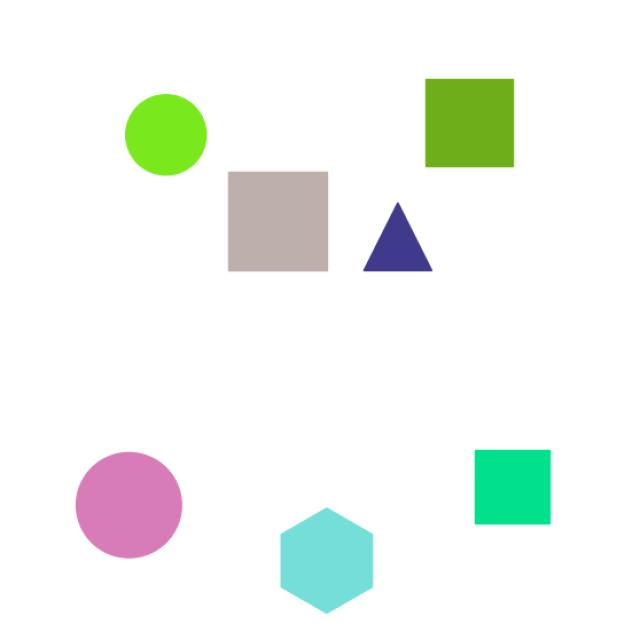Circle: (63, 441, 194, 571), (120, 95, 212, 183)
Hexagon: (264, 498, 388, 620)
Triangle: (351, 192, 452, 298)
square: (416, 67, 553, 182), (216, 162, 342, 283), (463, 438, 584, 539)
